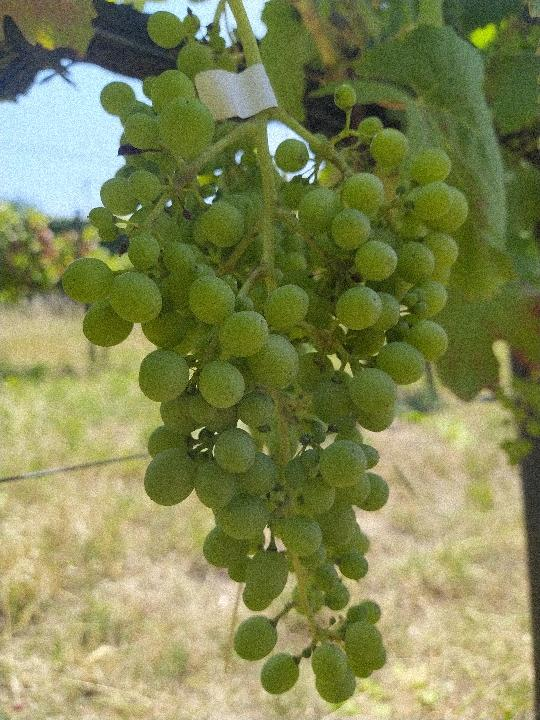grape: (57, 67, 469, 707)
